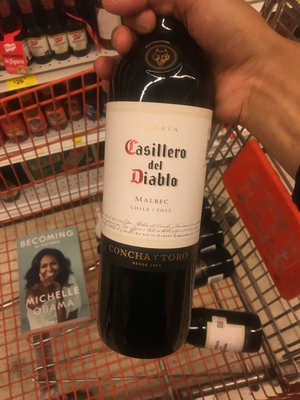casillero del diablo malbec: (98, 12, 225, 355)
